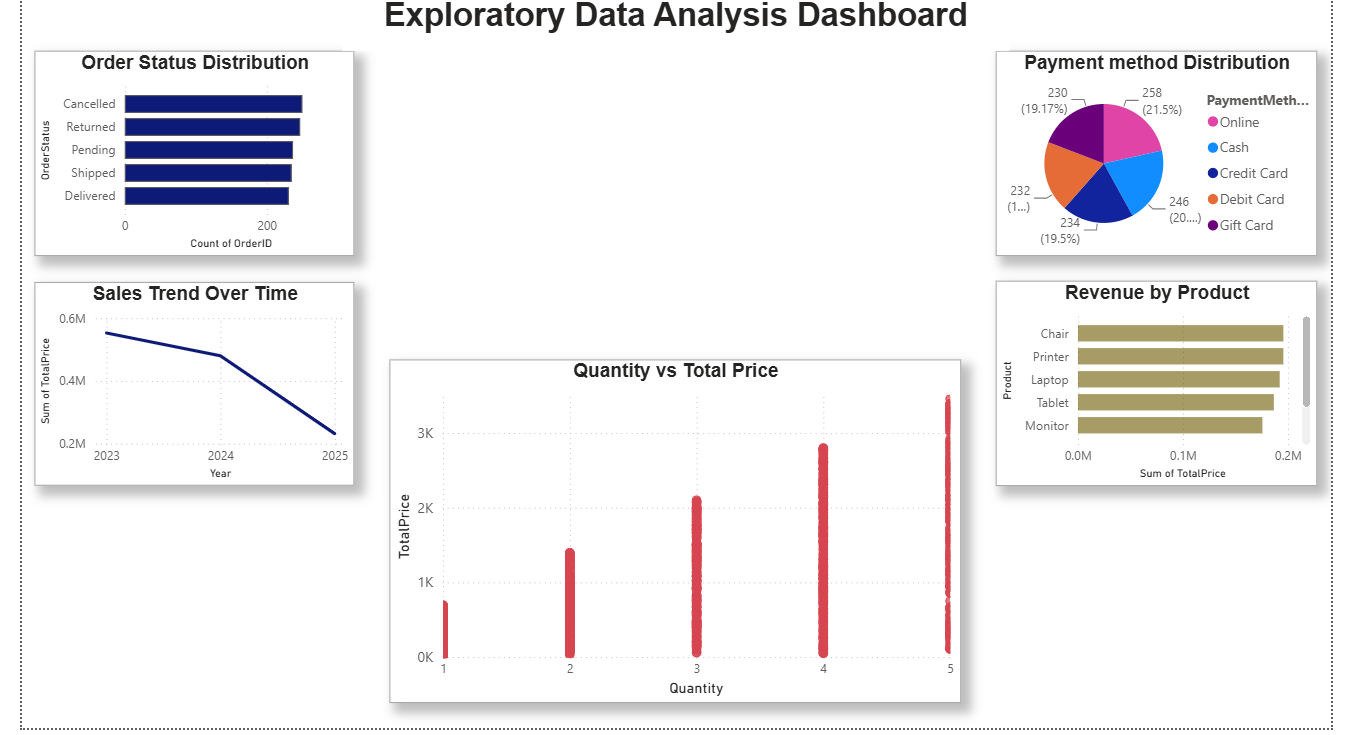

The page's visual inventory and layout, read from the dashboard file:
{"tool":"powerbi","page":{"name":"Page 1","canvas":[1280,720],"ordinal":0},"visuals":[{"type":"clusteredBarChart","title":"Order Status Distribution","fields":{"Y":["CountNonNull(Sheet1.OrderID)"],"Category":["Sheet1.OrderStatus"]},"box":[12.2,57.5,313,200.5],"z":0},{"type":"pieChart","title":"Payment method Distribution ","fields":{"Category":["Sheet1.PaymentMethod"],"Y":["CountNonNull(Sheet1.OrderID)"]},"box":[952.6,57.5,314.3,200.5],"z":1},{"type":"barChart","title":"Revenue by Product","fields":{"Category":["Sheet1.Product"],"Y":["Sum(Sheet1.TotalPrice)"]},"box":[952.6,282.5,314.3,200.5],"z":2},{"type":"lineChart","title":"Sales Trend Over Time","fields":{"Category":["Sheet1.Date.Variation.Date Hierarchy.Year","Sheet1.Date.Variation.Date Hierarchy.Quarter","Sheet1.Date.Variation.Date Hierarchy.Month","Sheet1.Date.Variation.Date Hierarchy.Day"],"Y":["Sum(Sheet1.TotalPrice)"]},"box":[12.2,283.7,313,199.3],"z":3},{"type":"scatterChart","title":"Quantity vs Total Price","fields":{"X":["Sheet1.Quantity"],"Y":["Sheet1.TotalPrice"]},"box":[359.5,359.5,558.8,336.3],"z":4},{"type":"textbox","box":[313.5,0,653,57.5],"z":5}]}

Visuals, with their boxes on the page's 1280x720 design canvas (x1, y1, x2, y2). These are canvas units, not pixel positions in the 1355x735 screenshot, which may show the page scaled, cropped or inside an application window:
"Order Status Distribution" clusteredBarChart: bbox=[12, 58, 325, 258]
"Payment method Distribution " pieChart: bbox=[953, 58, 1267, 258]
"Revenue by Product" barChart: bbox=[953, 282, 1267, 483]
"Sales Trend Over Time" lineChart: bbox=[12, 284, 325, 483]
"Quantity vs Total Price" scatterChart: bbox=[360, 360, 918, 696]
textbox: bbox=[314, 0, 966, 58]
